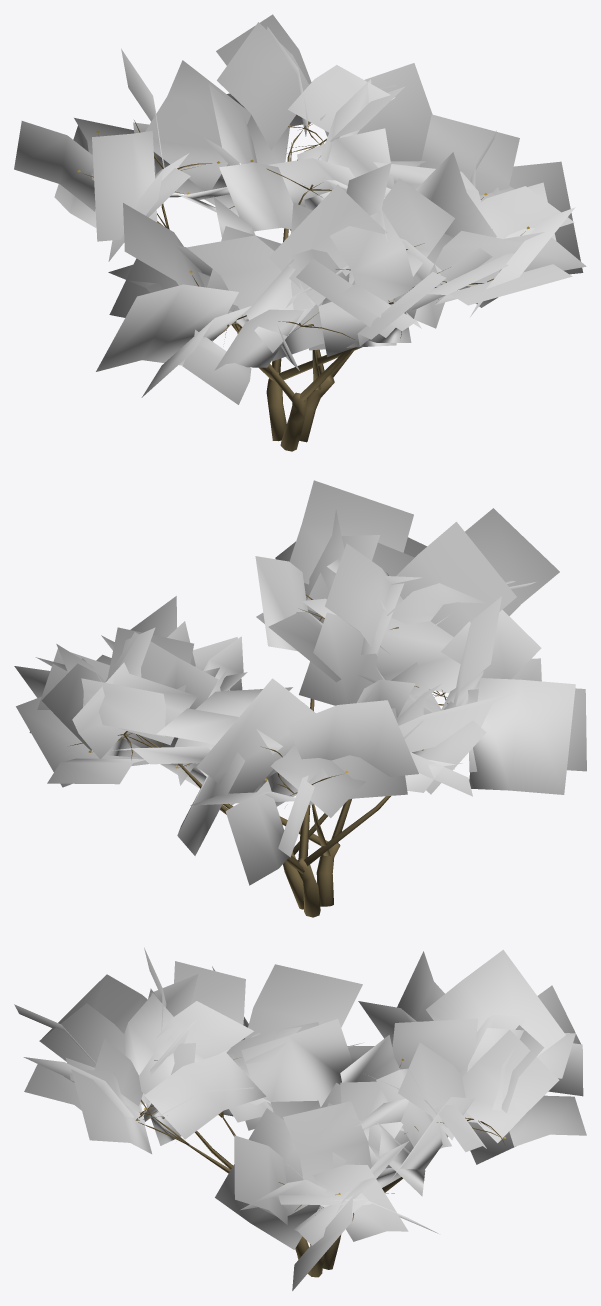
The model's file is V7_Ciste_1_Niveau2.fbx.
3 renders of one model, top to bottom at view 1: azimuth 30°, elevation 25°; view 2: azimuth 150°, elevation 25°; view 3: azimuth 270°, elevation 25°, orthographic. The views are drawn at different scales.
Visible parts, largest first — view 1: V7_Ciste_1_Detail2; view 2: V7_Ciste_1_Detail2; view 3: V7_Ciste_1_Detail2.
Boxes of the visible parts, x1,y1,x2,y2 form: V7_Ciste_1_Detail2: (14,14,586,451); V7_Ciste_1_Detail2: (14,480,586,917); V7_Ciste_1_Detail2: (14,947,586,1290).
Size of the model in its own units: 185 by 117 by 201.
